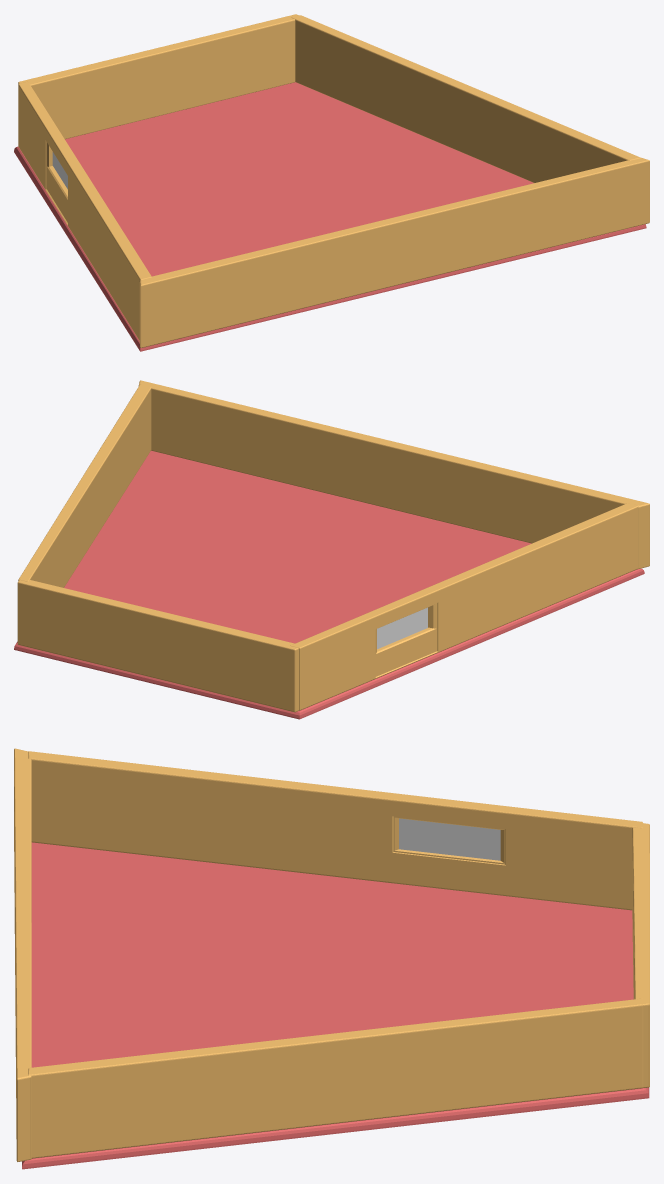
3 views of the same model, one above another, from view 1: azimuth 30°, elevation 25°; view 2: azimuth 150°, elevation 25°; view 3: azimuth 270°, elevation 25° (orthographic). The views are drawn at different scales.
Visible parts, largest first — view 1: Floor, Lower Wall, Right Wall, Upper Wall, Left Wall; view 2: Floor, Lower Wall, Left Wall, Upper Wall, Right Wall, Window; view 3: Floor, Right Wall, Left Wall, Lower Wall, Upper Wall, Window.
Boxes of the visible parts, x1,y1,x2,y2 form: Floor: (14,82,646,351); Lower Wall: (139,157,649,347); Right Wall: (291,15,640,182); Upper Wall: (18,14,298,139); Left Wall: (18,81,151,340); Floor: (14,450,644,719); Lower Wall: (138,380,649,568); Left Wall: (290,503,638,710); Upper Wall: (17,580,298,712); Right Wall: (18,384,151,587); Window: (377,607,427,649); Floor: (22,842,649,1169); Right Wall: (28,998,643,1158); Left Wall: (28,751,642,910); Lower Wall: (14,748,31,1161); Upper Wall: (632,823,649,1087); Window: (399,818,500,860).
Size of what is drawn, in the model's own units: 2533 by 330 by 2057.
